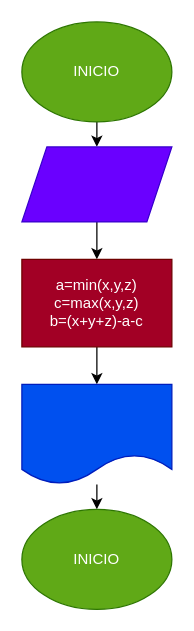
Some shapes in this 194 by 631 pixel diagram are drawn without their labels. The centre of each missing label's shape, as x and y in pixels:
x, y Y z: [96,184]
x, y Y z ordenados: [96,433]
